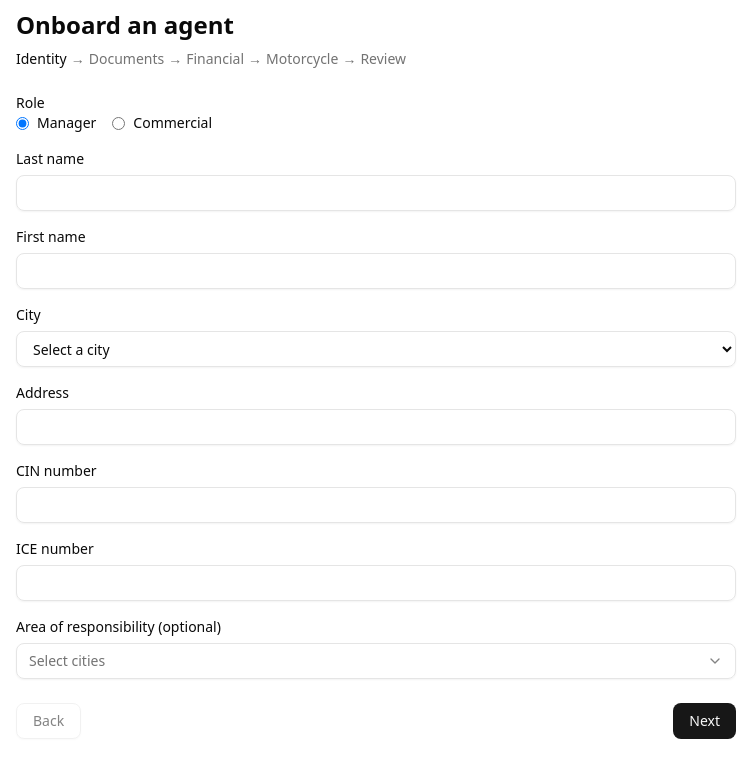
Test: step validation blocks Next › blocks leaving Identity when required fields are empty
Check: the field labelled "Last name" is shown, box top-left (16, 175), bottom-right (736, 211)
Step 1. Click the button "Next" → point(705, 721), box top-left (673, 703), bottom-right (736, 739)
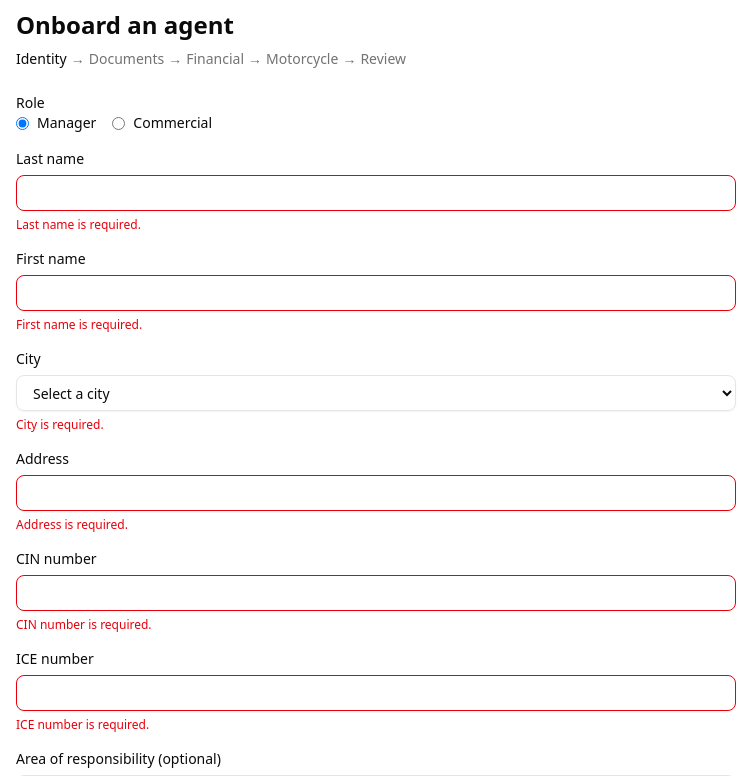
Check: the text "Last name is required." is shown, box top-left (16, 216), bottom-right (141, 233)
